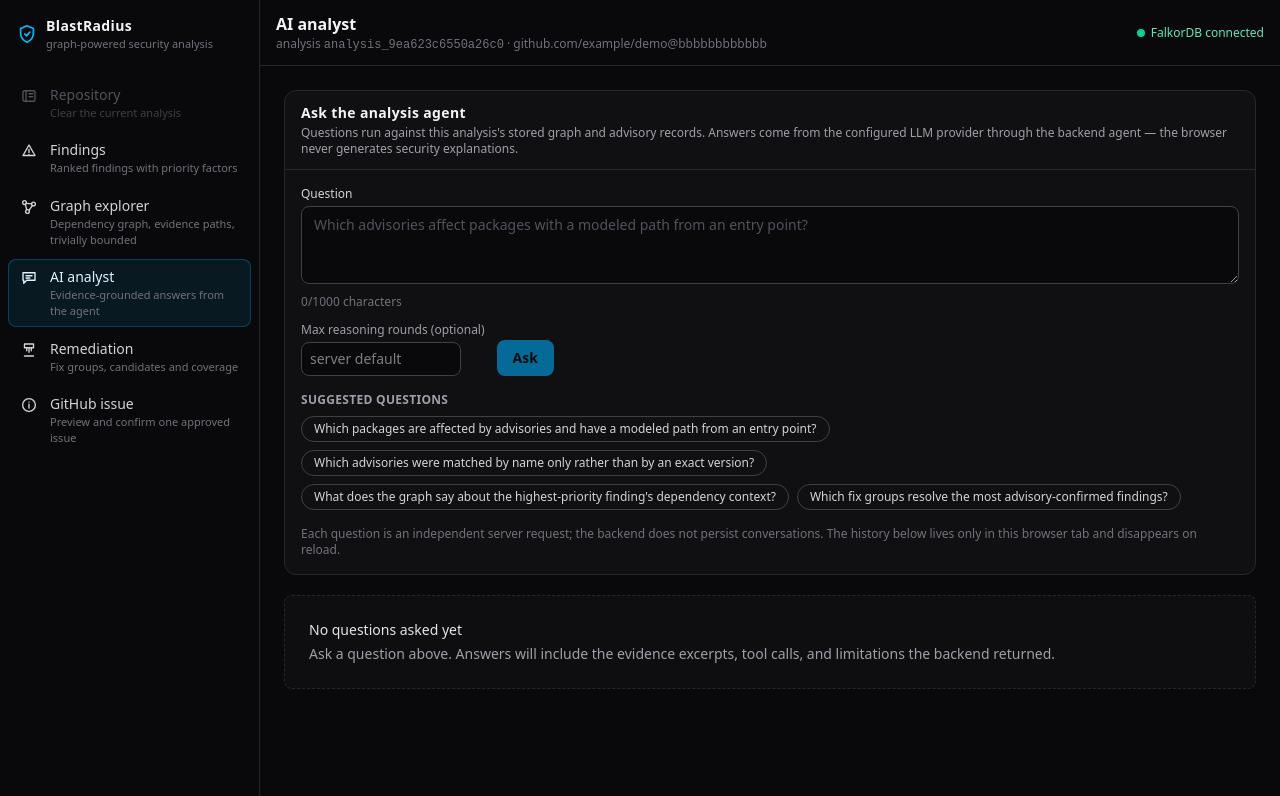
Test: Screen D — evidence-grounded analyst › explains an unconfigured LLM provider instead of showing an answer
This screenshot has width=1280, height=796.
Expected: the text "No questions asked yet" is shown, [309,620,462,639]
In the text box labelled "Question": coordinates (770, 245) [301,206,1239,284], type "What is most urgent?"
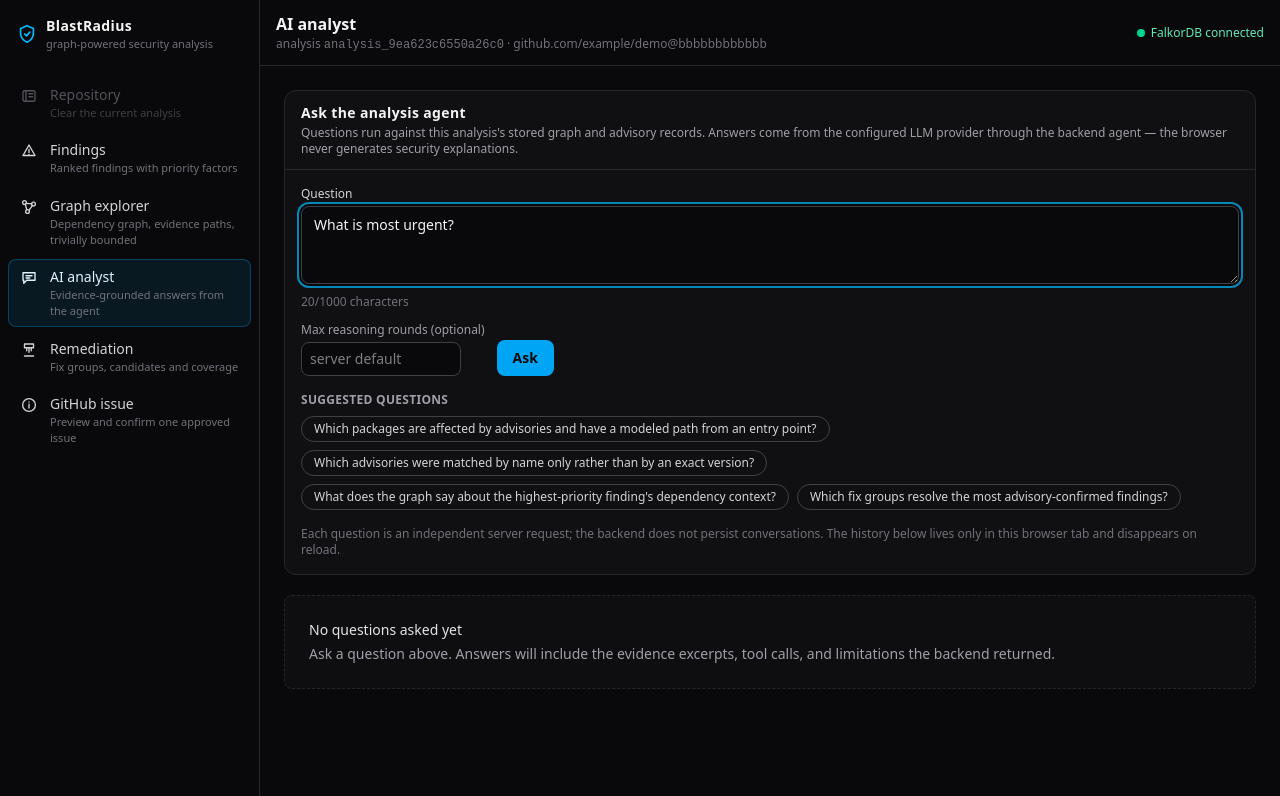
Click the button "Ask": coordinates (525, 358) [497,340,554,376]
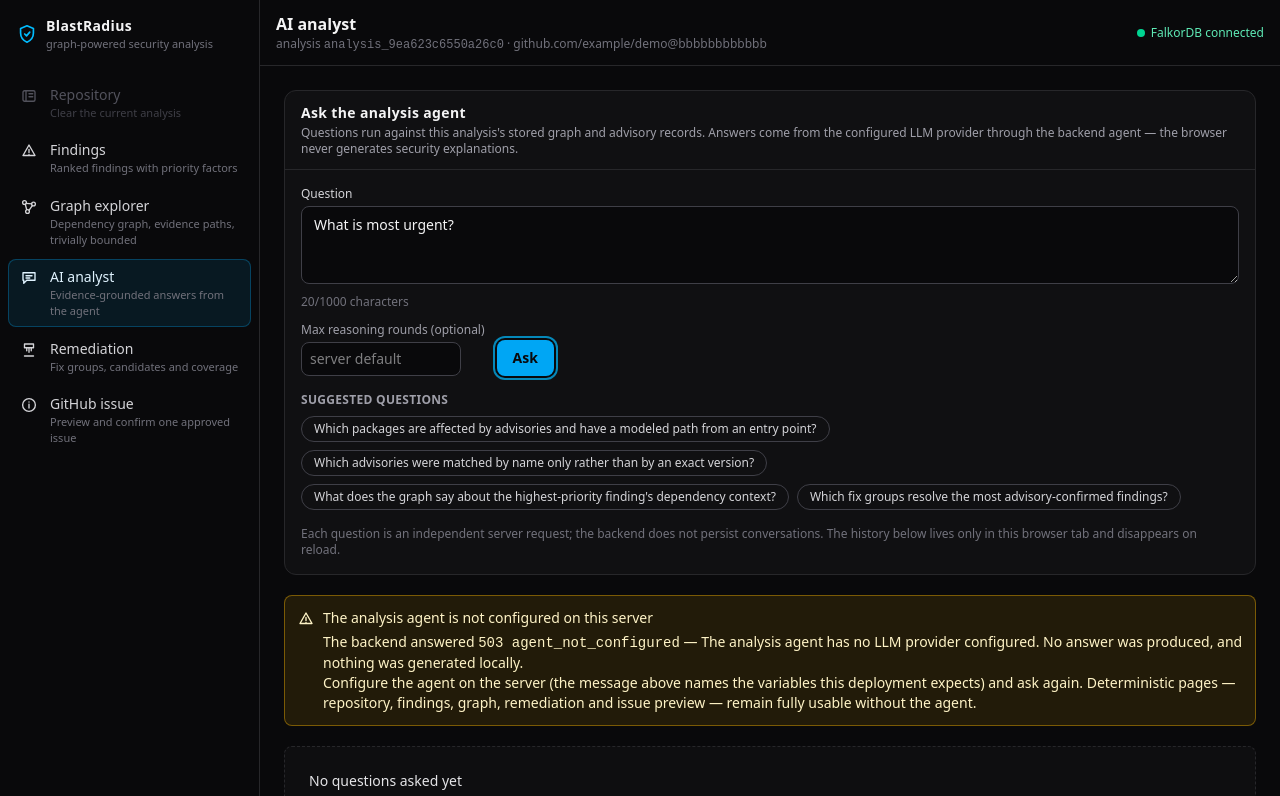
Expected: the text "The analysis agent is not configured on this server" is shown, [323,608,653,627]
Expected: the text "503 agent_not_configured" is shown, [478,635,680,651]
